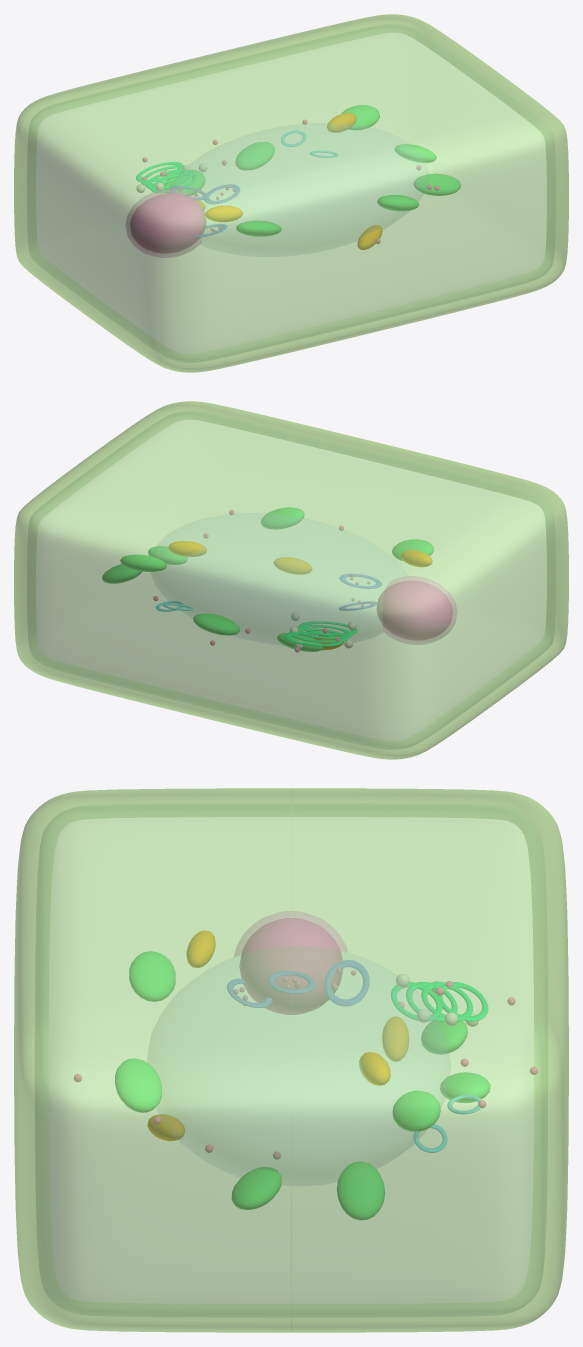
File: plant_cell.glb
The picture shows the model from 3 angles, top to bottom: view 1: azimuth 30°, elevation 25°; view 2: azimuth 150°, elevation 25°; view 3: azimuth 270°, elevation 25°; orthographic projection. The views are drawn at different scales.
Visible parts, largest first — view 1: CellWall, CellMembrane, NuclearEnvelope, Nucleus, Chloroplast_5, Chloroplast_1, Chloroplast_0, Chloroplast_4, Chloroplast_6, Chloroplast_2, Mitochondria_3; view 2: CellWall, CellMembrane, NuclearEnvelope, Nucleus, Chloroplast_2, Chloroplast_5, Chloroplast_0, Mitochondria_2, Chloroplast_6, Chloroplast_4, Mitochondria_0; view 3: CellWall, CellMembrane, Nucleus, NuclearEnvelope, Chloroplast_6, Chloroplast_2, Chloroplast_4, Chloroplast_1, Chloroplast_0, Chloroplast_3, Chloroplast_5, Mitochondria_1 (+4 smaller).
Part boxes in pixels (<box>): CellWall: <box>14,14,568,372</box>; CellMembrane: <box>27,24,555,362</box>; NuclearEnvelope: <box>126,189,201,257</box>; Nucleus: <box>130,194,206,252</box>; Chloroplast_5: <box>235,142,274,170</box>; Chloroplast_1: <box>414,174,460,195</box>; Chloroplast_0: <box>341,105,379,129</box>; Chloroplast_4: <box>236,221,281,236</box>; Chloroplast_6: <box>395,144,436,162</box>; Chloroplast_2: <box>377,195,418,210</box>; Mitochondria_3: <box>205,206,242,221</box>; CellWall: <box>14,401,568,759</box>; CellMembrane: <box>27,411,555,749</box>; NuclearEnvelope: <box>383,576,456,644</box>; Nucleus: <box>376,581,452,639</box>; Chloroplast_2: <box>261,507,304,529</box>; Chloroplast_5: <box>193,614,239,635</box>; Chloroplast_0: <box>120,555,166,571</box>; Mitochondria_2: <box>273,557,312,574</box>; Chloroplast_6: <box>102,564,141,583</box>; Chloroplast_4: <box>392,539,433,560</box>; Mitochondria_0: <box>168,541,206,556</box>; CellWall: <box>14,788,568,1332</box>; CellMembrane: <box>35,803,547,1317</box>; Nucleus: <box>239,918,342,1014</box>; NuclearEnvelope: <box>234,911,347,956</box>; Chloroplast_6: <box>337,1161,384,1220</box>; Chloroplast_2: <box>115,1058,161,1112</box>; Chloroplast_4: <box>129,951,175,1001</box>; Chloroplast_1: <box>232,1167,281,1209</box>; Chloroplast_0: <box>393,1091,440,1131</box>; Chloroplast_3: <box>421,1021,467,1054</box>; Chloroplast_5: <box>440,1072,490,1102</box>; Mitochondria_1: <box>382,1016,408,1061</box>.
Bounding box in the file's own units: 10.98 × 4.39 × 7.98.
